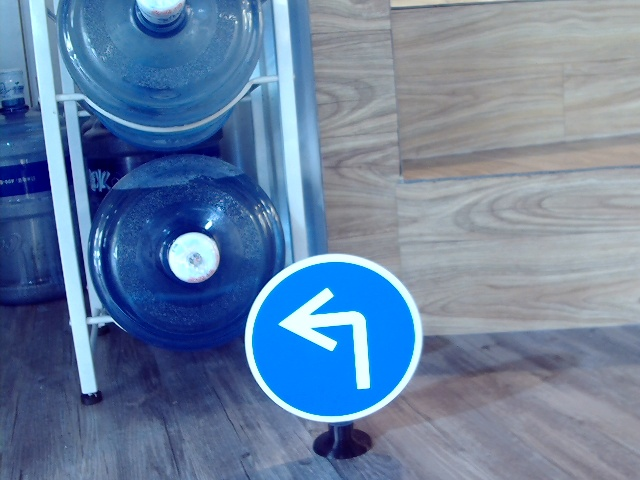turn_left: (276, 286, 376, 396)
